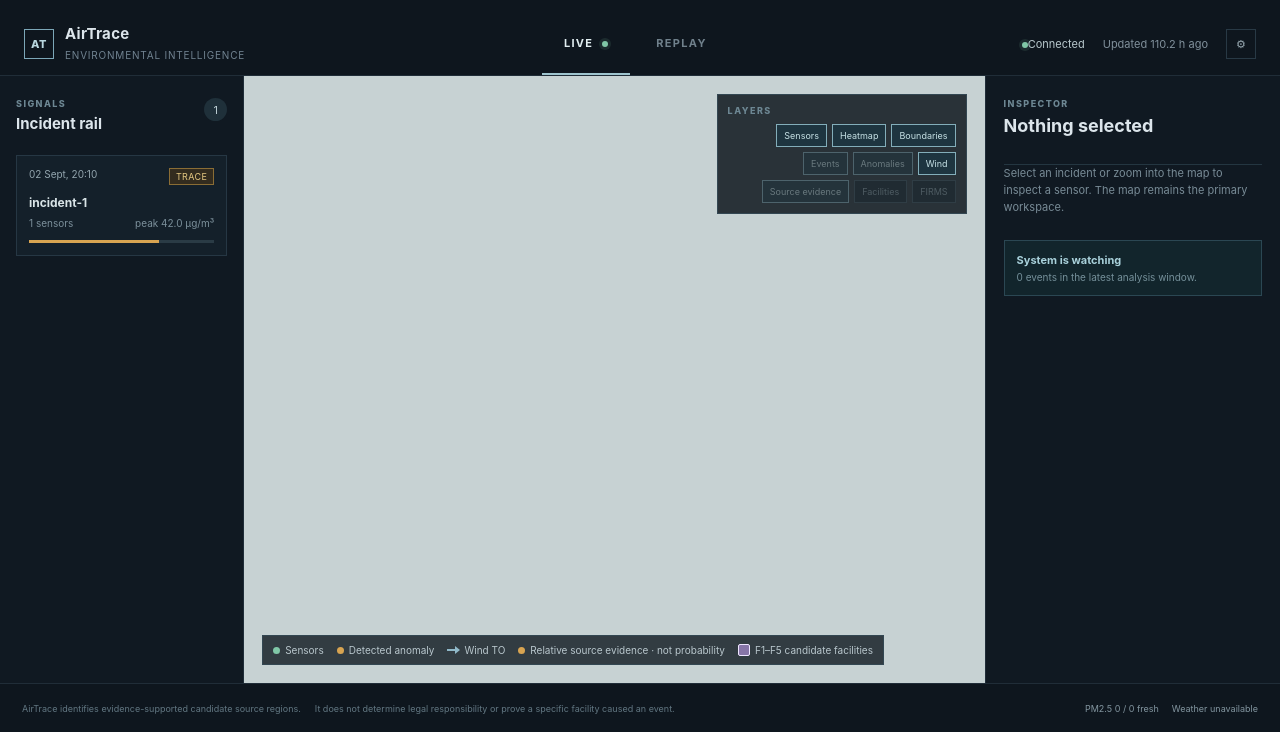
App map evidence selection › keeps the incident context and layers when a facility is inspected
Click the button with class "incident-row" at (122, 206), box [16,155,227,256]
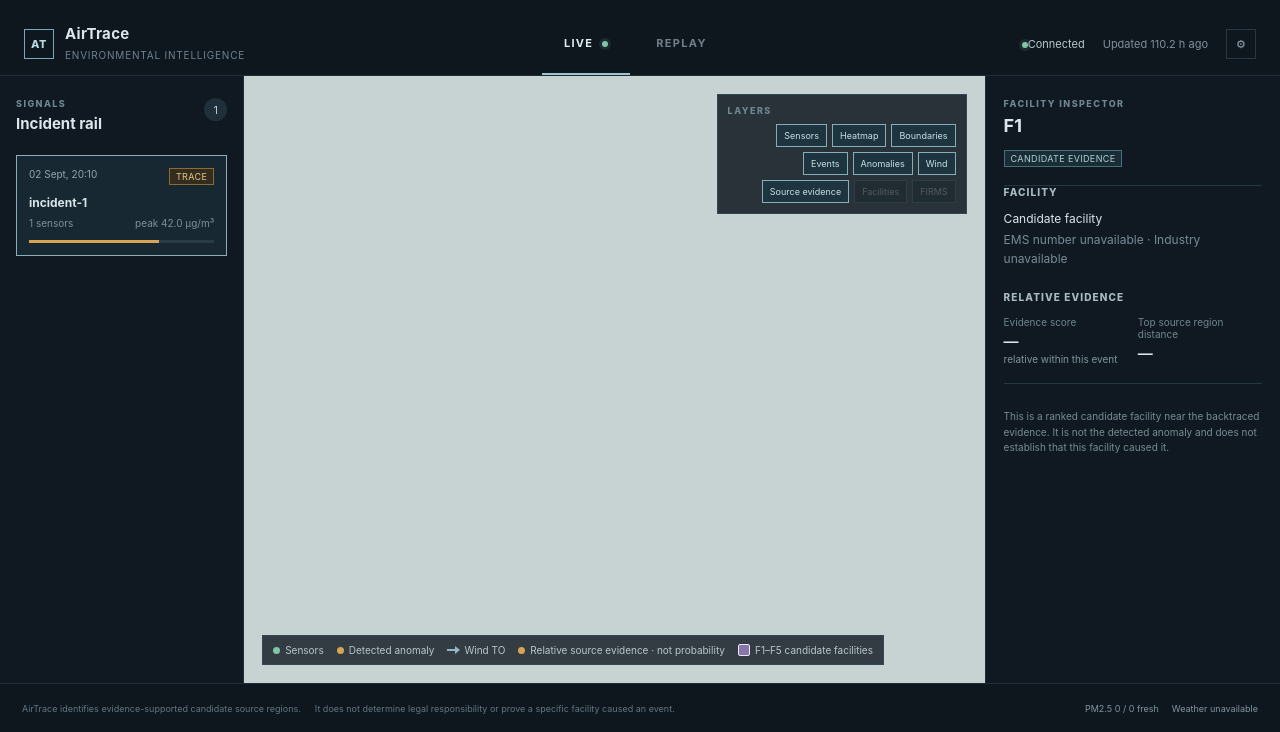
Check: the text "Candidate facility" is shown, box [1004,211,1102,226]
Check: the button "Events" is enabled, box [803,152,848,175]
